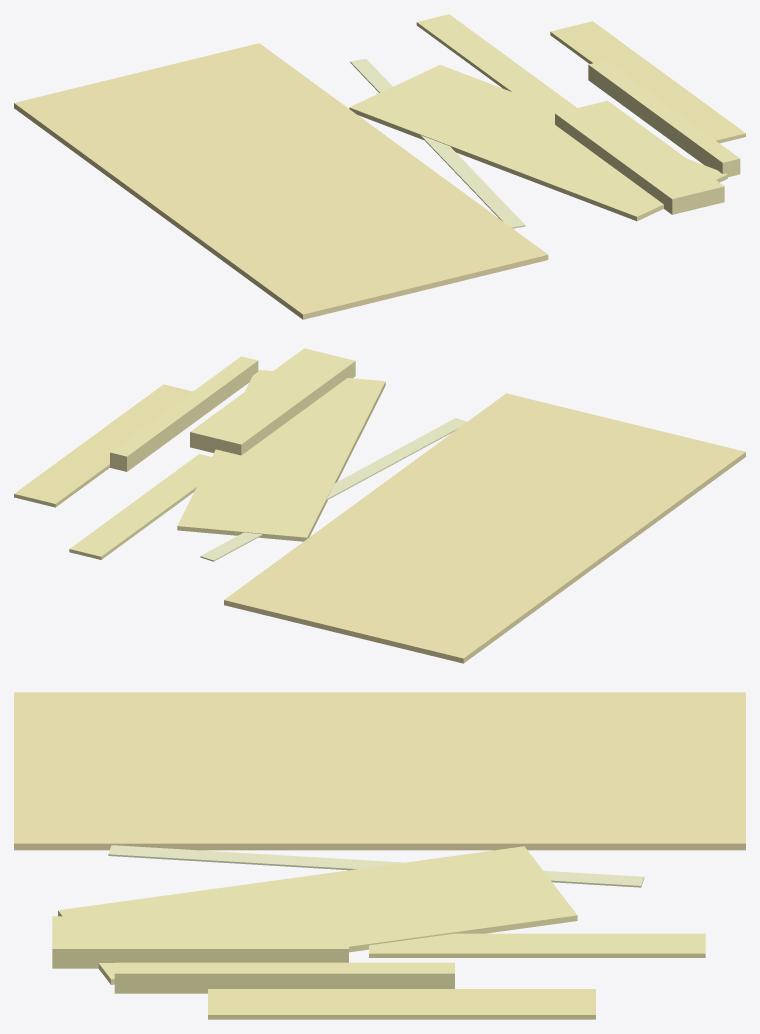
File: road_mountable_apron_corner.glb
3 renders of one model, top to bottom at view 1: azimuth 30°, elevation 25°; view 2: azimuth 150°, elevation 25°; view 3: azimuth 270°, elevation 25°, orthographic. The views are drawn at different scales.
Parts seen in each view (by area): view 1: travel_lane, corner_apron, mountable_island, outer_fill, curb_stub, truck_overrun, joint_band; view 2: travel_lane, corner_apron, mountable_island, outer_fill, curb_stub, truck_overrun, joint_band; view 3: travel_lane, corner_apron, mountable_island, outer_fill, curb_stub, truck_overrun, joint_band.
Part boxes in pixels (x1,y1,x2,y2): travel_lane: (14, 43, 548, 319); corner_apron: (349, 65, 727, 221); mountable_island: (555, 100, 724, 214); outer_fill: (550, 21, 745, 143); curb_stub: (588, 60, 740, 177); truck_overrun: (416, 14, 576, 111); joint_band: (350, 59, 525, 228); travel_lane: (224, 393, 745, 663); corner_apron: (177, 370, 385, 541); mountable_island: (190, 348, 355, 455); outer_fill: (14, 384, 192, 507); curb_stub: (110, 356, 258, 471); truck_overrun: (69, 454, 211, 559); joint_band: (200, 418, 466, 561); travel_lane: (14, 692, 745, 850); corner_apron: (58, 846, 577, 984); mountable_island: (52, 916, 348, 968); outer_fill: (208, 989, 595, 1019); curb_stub: (114, 962, 454, 993); truck_overrun: (369, 933, 705, 957); joint_band: (108, 845, 644, 887).
Bounding box in the file's own units: 4.15 × 0.12 × 4.
